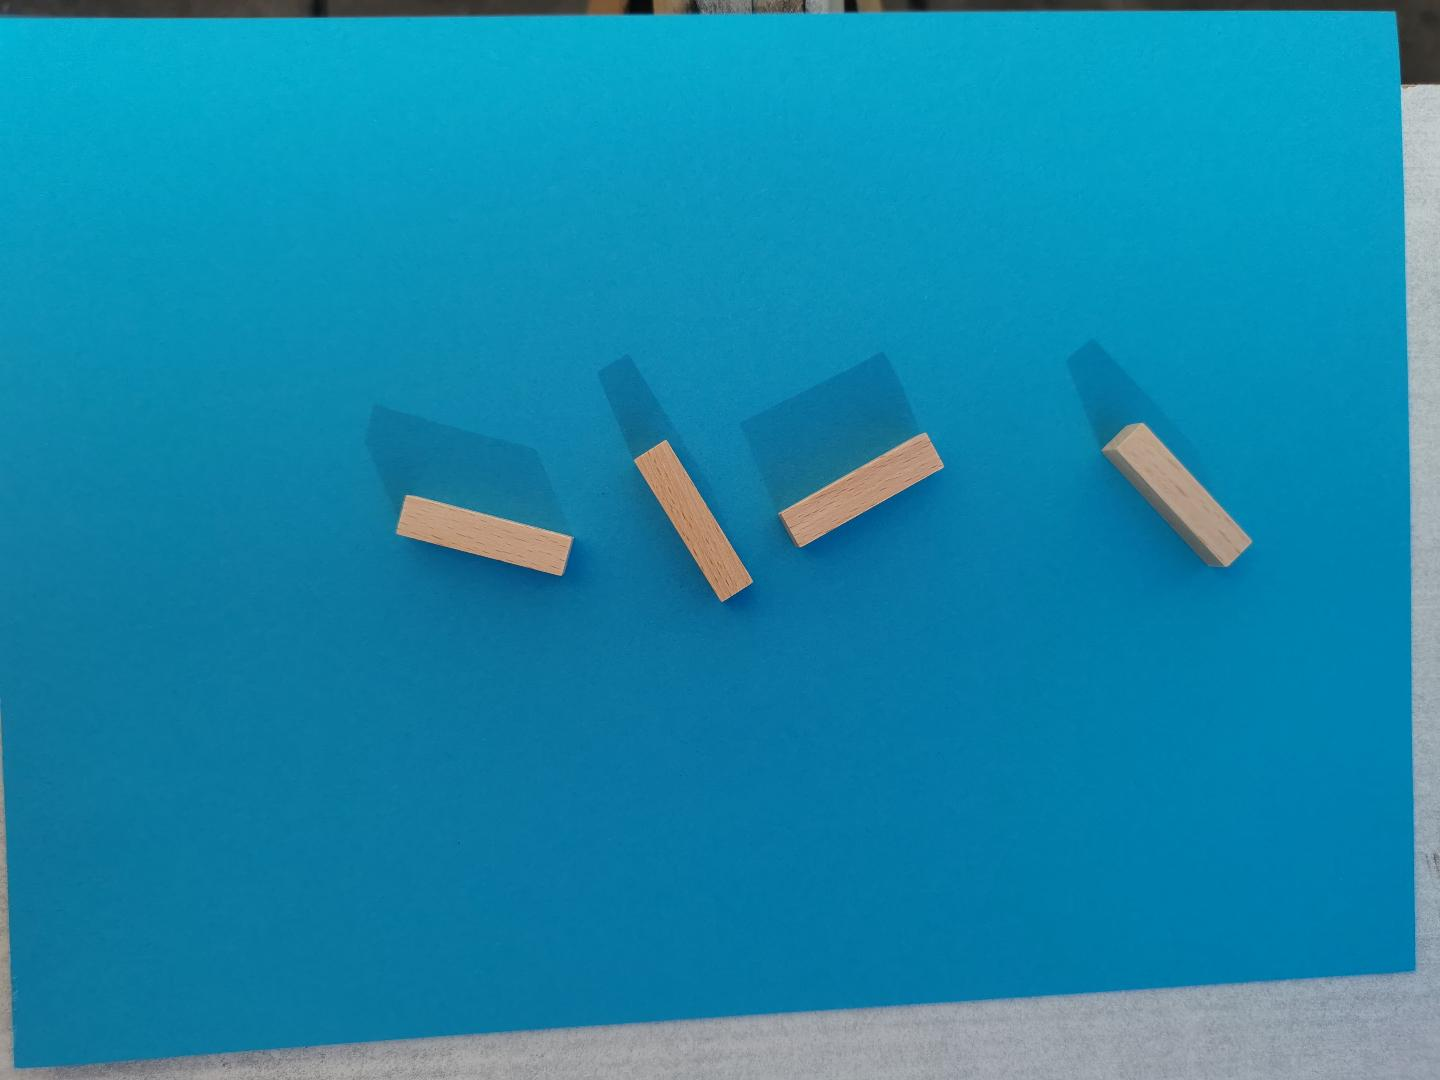jenga: (1102, 424, 1252, 565), (636, 441, 751, 602), (779, 433, 942, 546), (397, 495, 574, 576)
